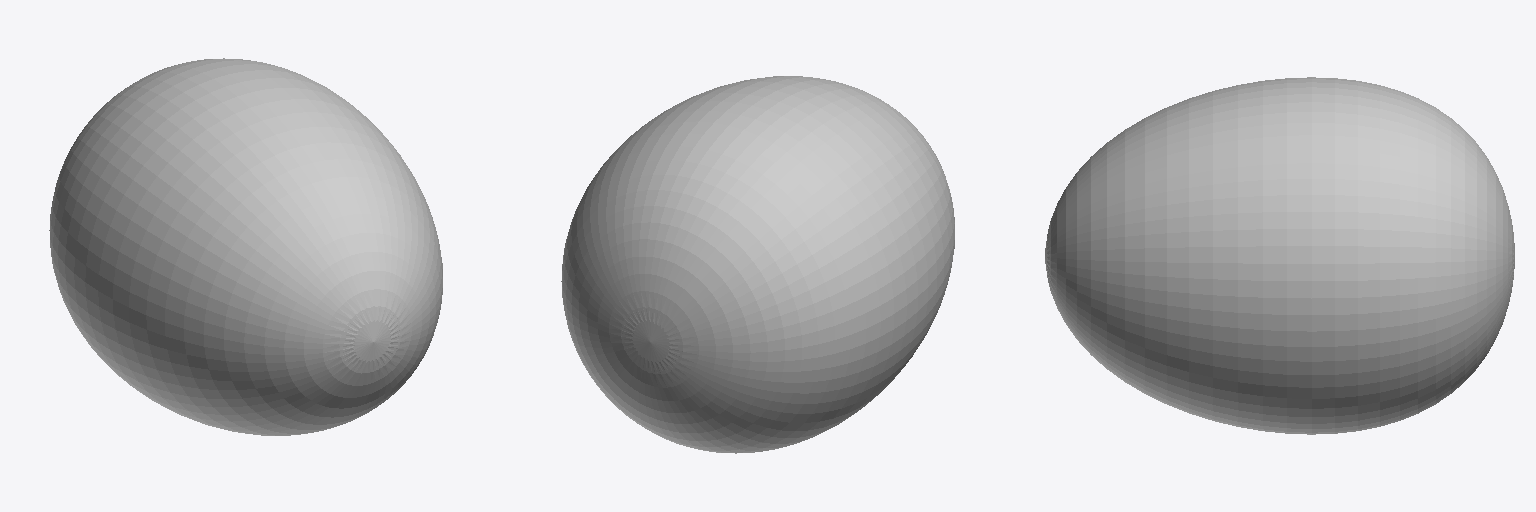
File: egg.obj
3 views of the same model, side by side, from view 1: azimuth 30°, elevation 25°; view 2: azimuth 150°, elevation 25°; view 3: azimuth 270°, elevation 25° (orthographic).
Visible parts, largest first — view 1: Egg; view 2: Egg; view 3: Egg.
Boxes of the visible parts, x1=… form: Egg: x1=49, y1=58, x2=442, y2=435; Egg: x1=561, y1=76, x2=954, y2=453; Egg: x1=1045, y1=77, x2=1514, y2=434.
Size of the model in its own units: 46.12 by 46.12 by 60.74.